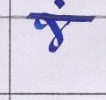anusvara: (55, 1, 64, 8)
